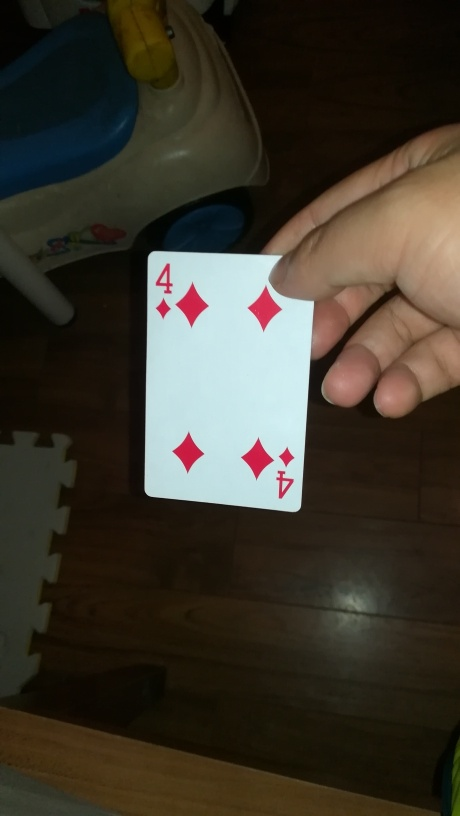fk 4: (141, 247, 313, 514)
